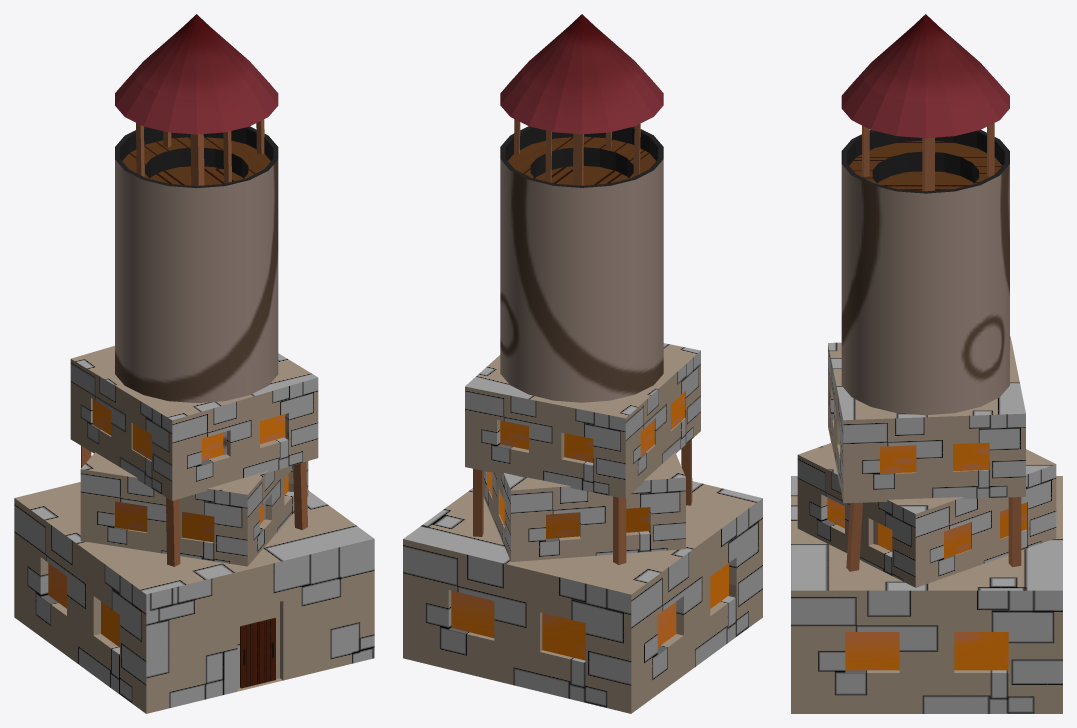
Rendered from домик.FBX.
The picture shows the model from 3 angles, left to right: view 1: azimuth 30°, elevation 25°; view 2: azimuth 150°, elevation 25°; view 3: azimuth 270°, elevation 25°; orthographic projection. The views are drawn at different scales.
Visible parts, largest first — view 1: Cylinder001; view 2: Cylinder001; view 3: Cylinder001.
Boxes of the visible parts, x1=… form: Cylinder001: x1=14, y1=14, x2=374, y2=713; Cylinder001: x1=403, y1=14, x2=762, y2=713; Cylinder001: x1=791, y1=14, x2=1062, y2=713.
Bounding box in the file's own units: 254 × 663 × 254.
1 material, 1 textured.
